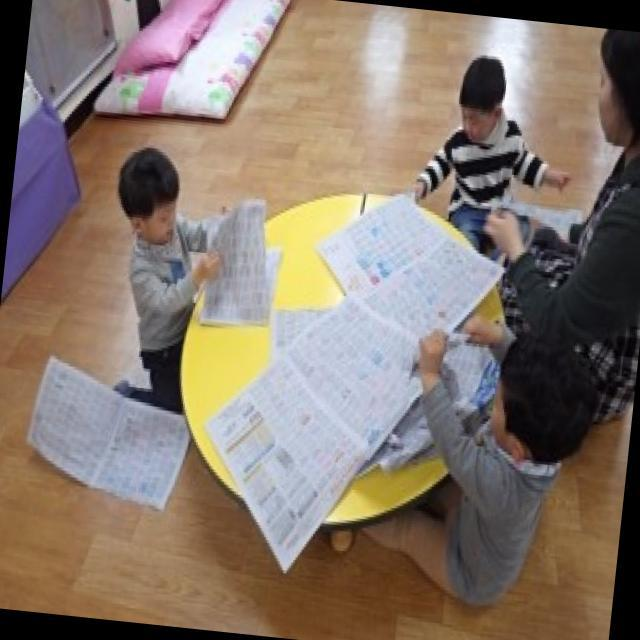reuseable_paper: (202, 286, 414, 560)
